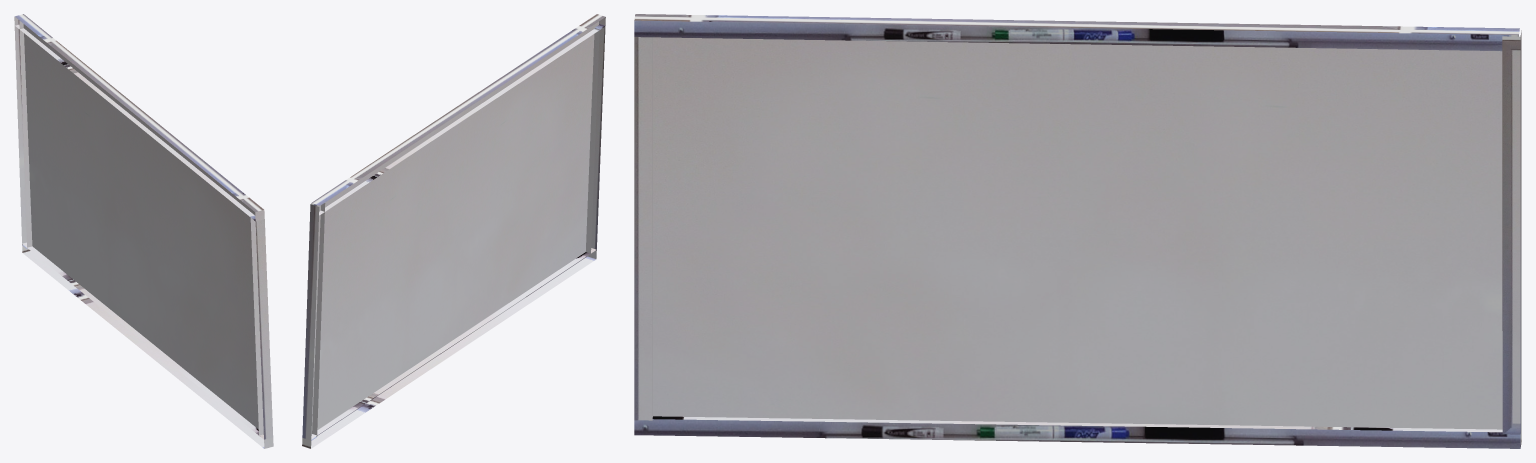
Rendered from papan.obj.
3 views of the same model, side by side, from view 1: azimuth 30°, elevation 25°; view 2: azimuth 150°, elevation 25°; view 3: azimuth 270°, elevation 25° (orthographic). The views are drawn at different scales.
Parts seen in each view (by area): view 1: chalkboard.001_Cube.001; view 2: chalkboard.001_Cube.001; view 3: chalkboard.001_Cube.001.
Boxes of the visible parts, x1,y1,x2,y2 form: chalkboard.001_Cube.001: [14, 14, 273, 448]; chalkboard.001_Cube.001: [302, 14, 605, 448]; chalkboard.001_Cube.001: [634, 14, 1521, 448].
Bounding box in the file's own units: 1.15 × 7.24 × 14.22.
Materials: 1 (1 with a texture image).
